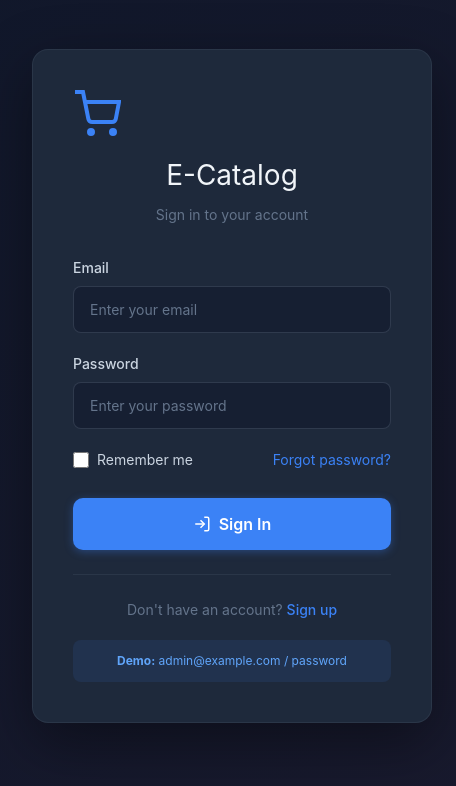
Scenario: Authentication Flow Integration Tests › TC1: Login Flow › TC1.2: should show error message for invalid credentials
Type "wrong@email.com" into the field labelled "Email".
click(232, 310); type("wrong@email.com")  # box [73,286,391,333]
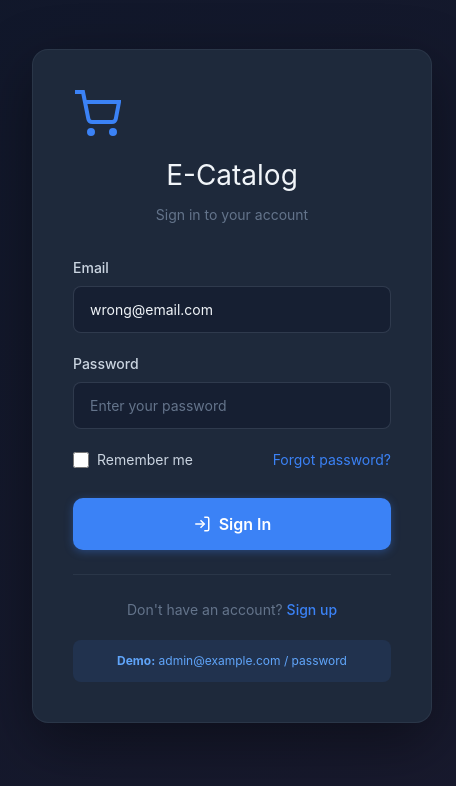
Type "wrongpassword" into the password field labelled "Password".
click(232, 406); type("wrongpassword")  # box [73,382,391,429]
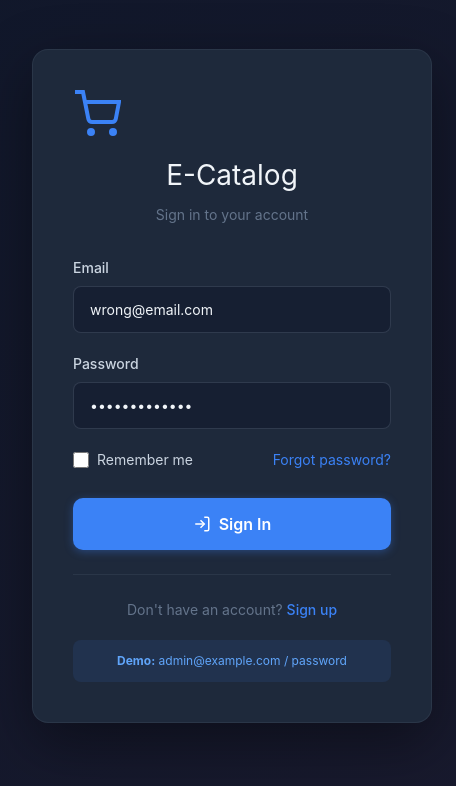
Click the button "Sign In".
click(232, 524)  # box [73,498,391,550]
Wait 1000 ms
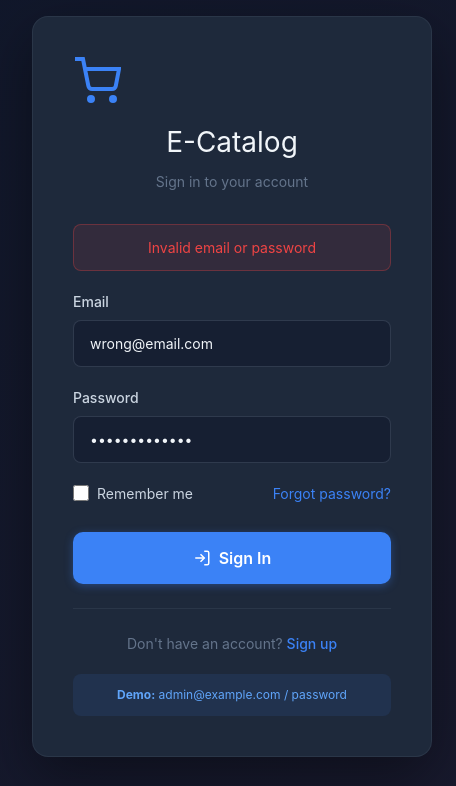
Check: the text "Invalid email or password" is shown, box [73,224,391,270]
